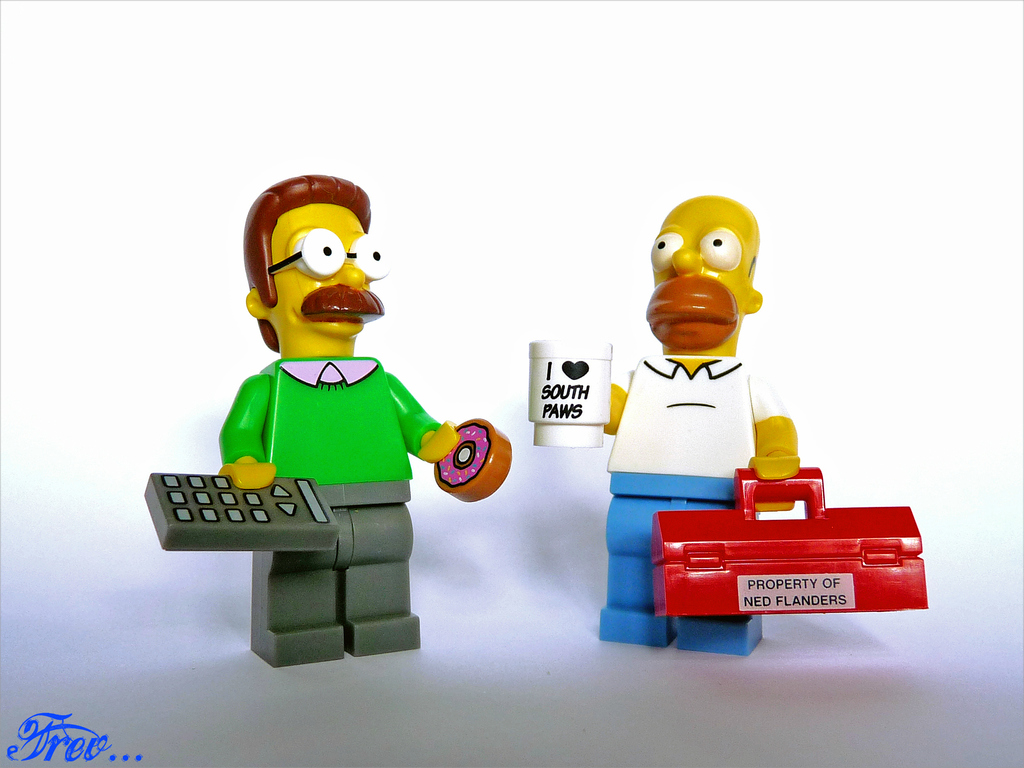Person: (218, 174, 460, 668), (598, 194, 799, 655)
